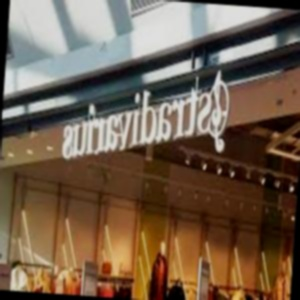stradivarius: (66, 128, 300, 192)
